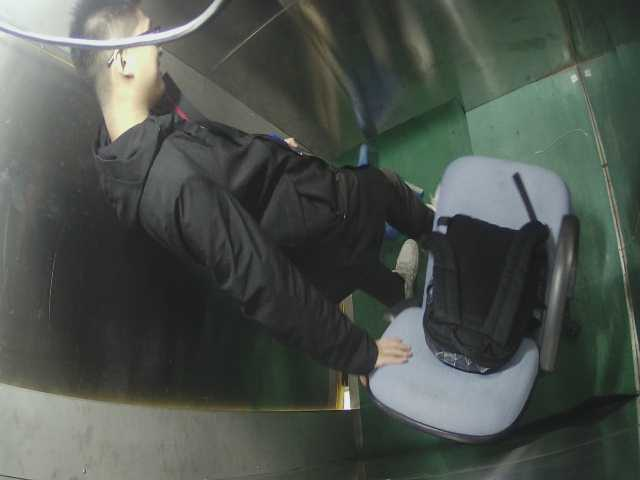bag: (412, 206, 553, 378)
chair: (343, 155, 582, 451)
person: (67, 1, 409, 355)
